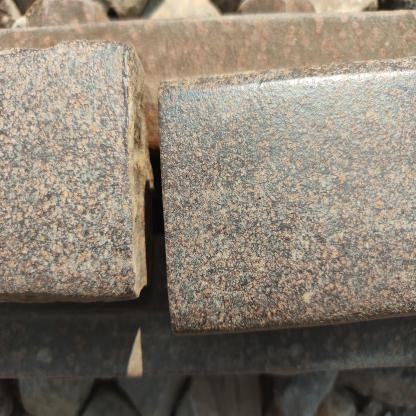Defective: (38, 6, 315, 366)
